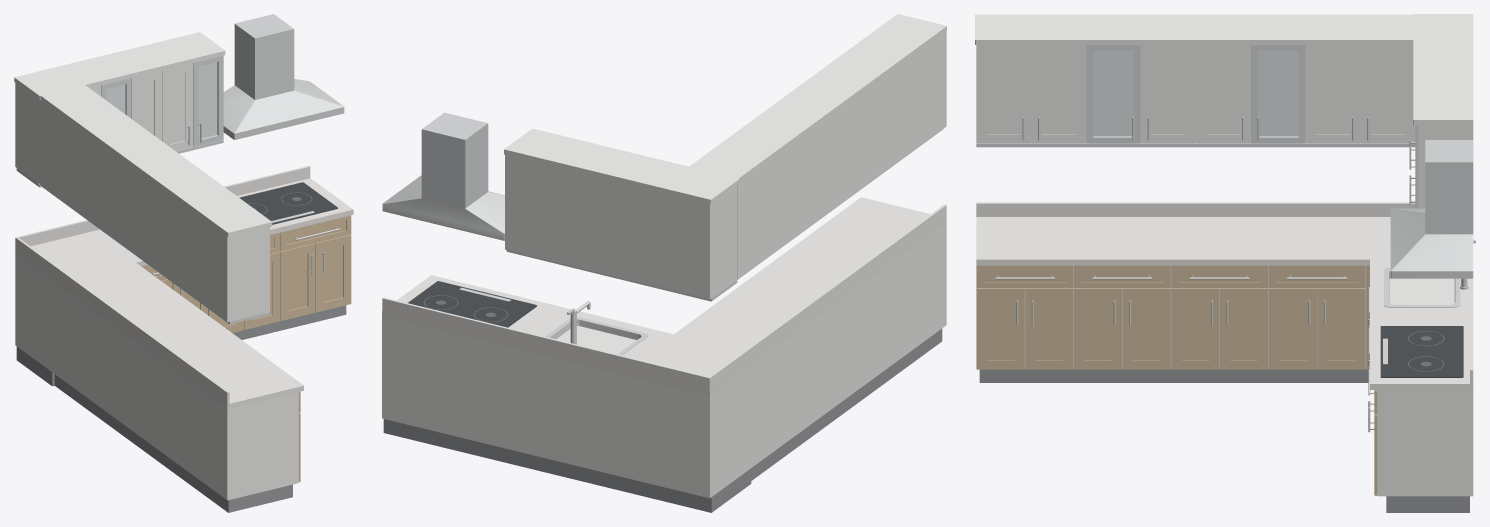
The picture shows the model from 3 angles, left to right: view 1: azimuth 30°, elevation 25°; view 2: azimuth 150°, elevation 25°; view 3: azimuth 270°, elevation 25°; orthographic projection. The views are drawn at different scales.
Parts seen in each view (by area): view 1: Tủ bếp chữ L Dài cạnh chính=2400; Dài cạnh phụ=3000; Sâu tủ ; view 2: Tủ bếp chữ L Dài cạnh chính=2400; Dài cạnh phụ=3000; Sâu tủ ; view 3: Tủ bếp chữ L Dài cạnh chính=2400; Dài cạnh phụ=3000; Sâu tủ .
Part boxes in pixels (x1,y1,x2,y2): Tủ bếp chữ L Dài cạnh chính=2400; Dài cạnh phụ=3000; Sâu tủ : (14, 14, 353, 512); Tủ bếp chữ L Dài cạnh chính=2400; Dài cạnh phụ=3000; Sâu tủ : (382, 14, 946, 512); Tủ bếp chữ L Dài cạnh chính=2400; Dài cạnh phụ=3000; Sâu tủ : (975, 14, 1475, 512).
Bounding box in the file's own units: 2.41 × 2.2 × 3.02.
